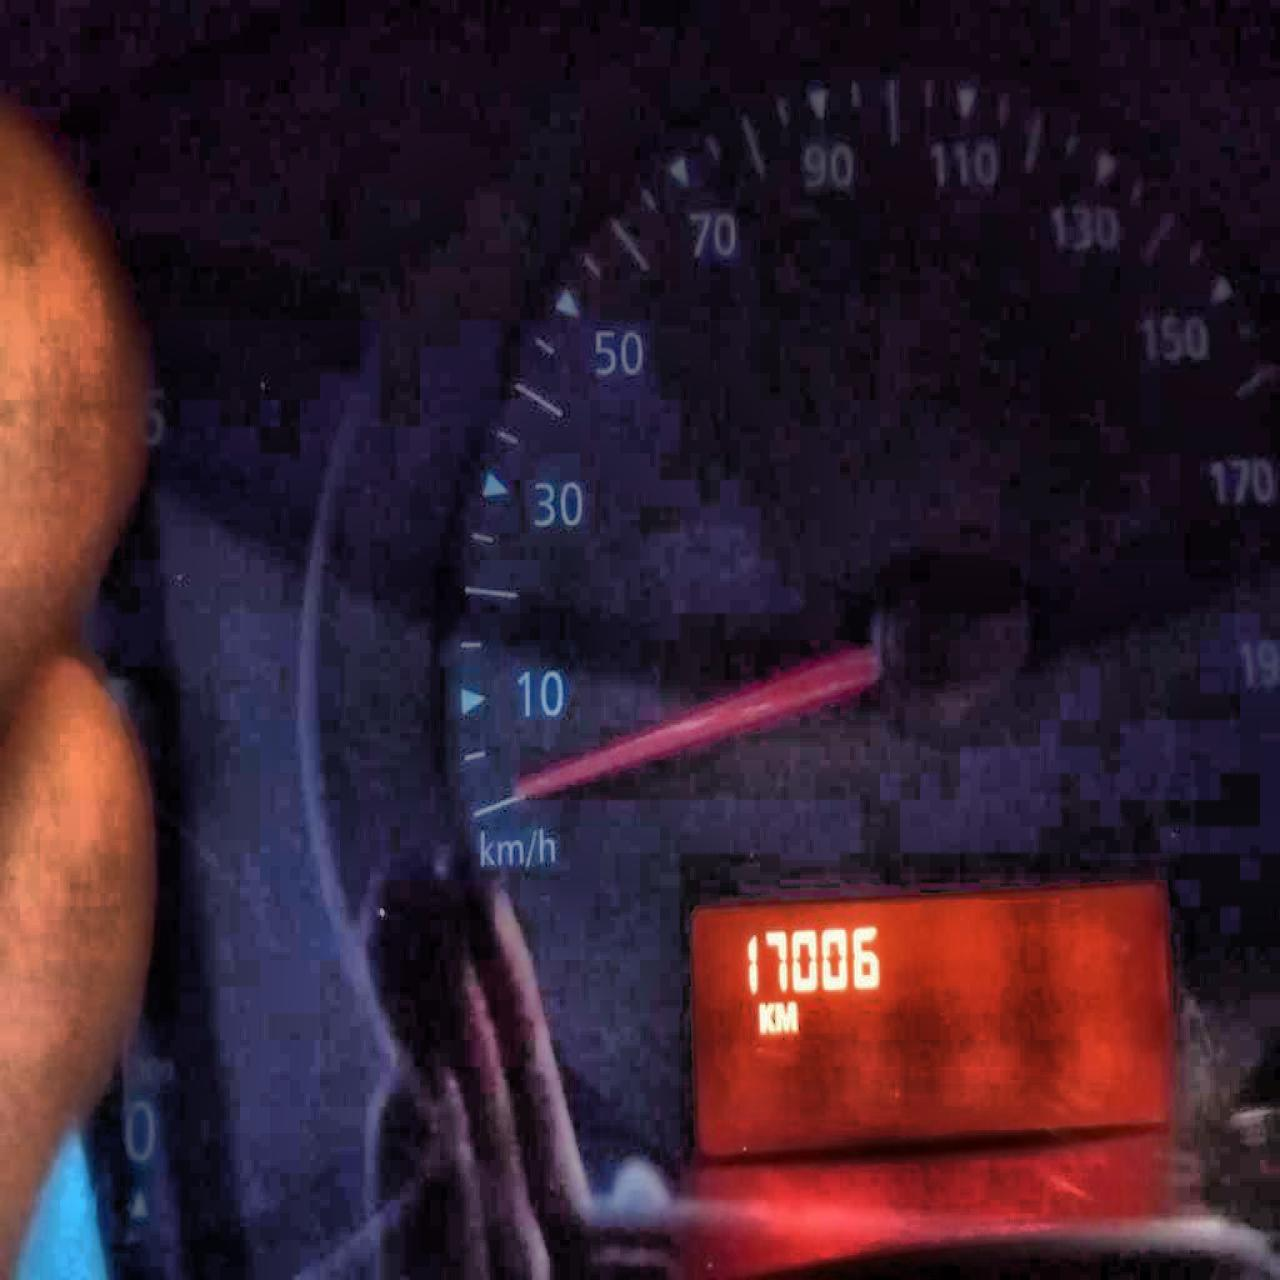0: (790, 926, 818, 992), (821, 926, 847, 992)
1: (745, 930, 760, 995)
6: (851, 924, 879, 989)
7: (763, 928, 789, 992)
X: (775, 1000, 797, 1032), (756, 1000, 775, 1033)
odometer: (683, 878, 1187, 1162)
